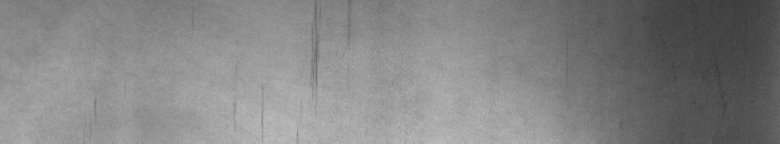ka: (261, 4, 323, 127)
